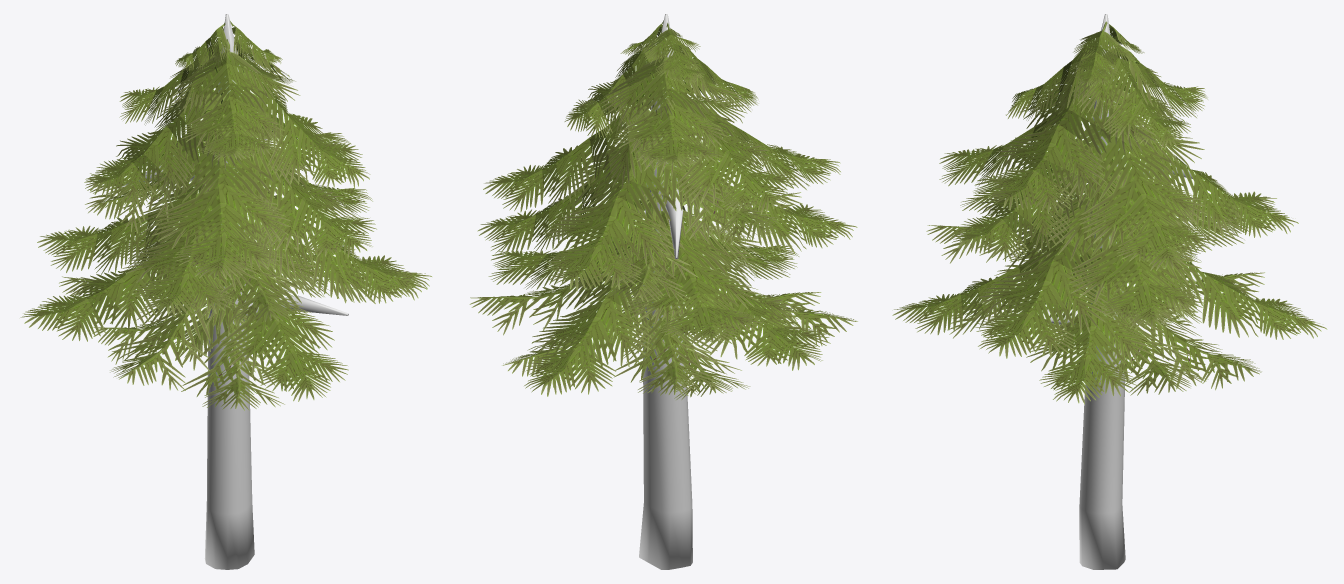
Rendered from Pine_Trunk.fbx.
3 views of the same model, side by side, from view 1: azimuth 30°, elevation 25°; view 2: azimuth 150°, elevation 25°; view 3: azimuth 270°, elevation 25° (orthographic).
Visible parts, largest first — view 1: Pine_Tree.001; view 2: Pine_Tree.001; view 3: Pine_Tree.001.
Boxes of the visible parts, x1=… form: Pine_Tree.001: x1=20, y1=14, x2=431, y2=569; Pine_Tree.001: x1=469, y1=14, x2=857, y2=569; Pine_Tree.001: x1=892, y1=14, x2=1327, y2=569.
Size of the model in its own units: 5.29 by 7.41 by 5.39.
